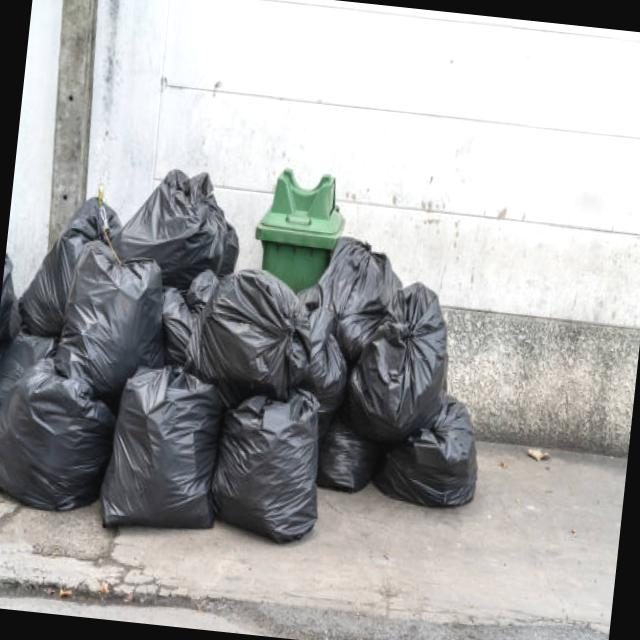garbage: (0, 136, 506, 568)
